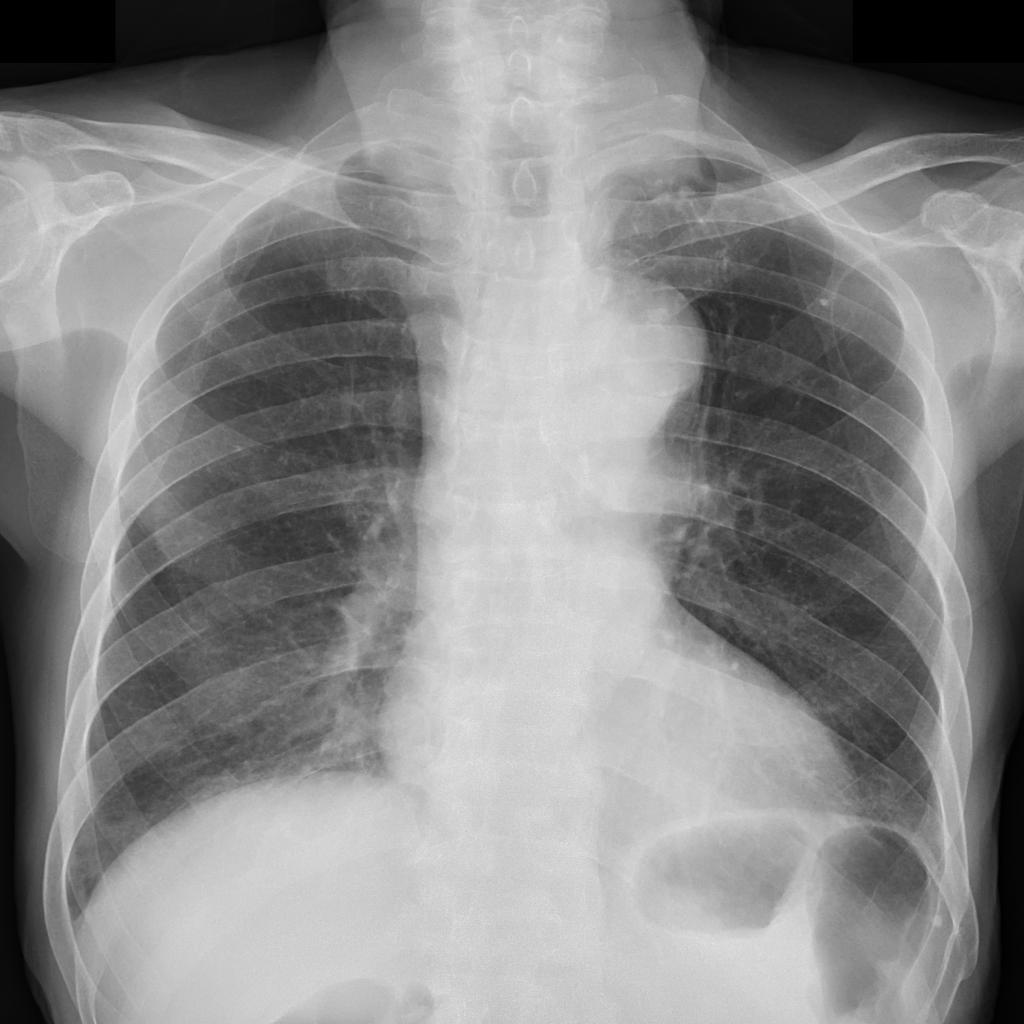Nodule: (817, 296, 833, 310), (931, 914, 944, 928)
